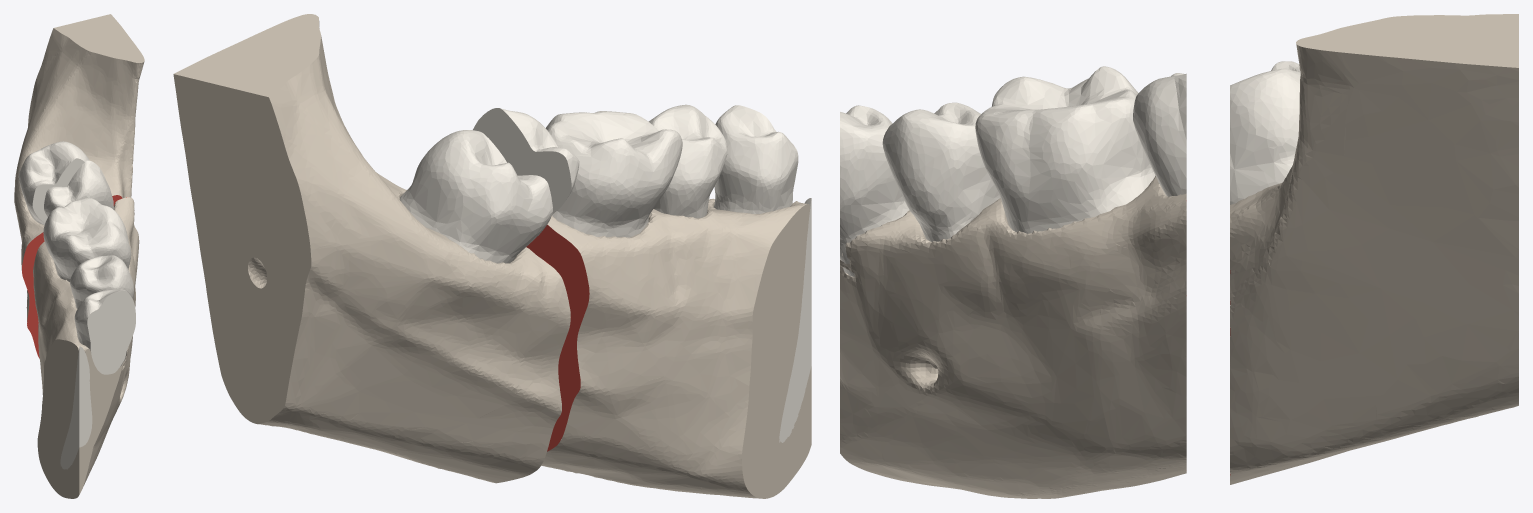
Rendered from 1-cut.glb.
The picture shows the model from 3 angles, left to right: view 1: azimuth 30°, elevation 25°; view 2: azimuth 150°, elevation 25°; view 3: azimuth 270°, elevation 25°; orthographic projection. The views are drawn at different scales.
Visible parts, largest first — view 1: bone, teeth, cut; view 2: bone, teeth, cut; view 3: bone, teeth.
Part boxes in pixels (box(x1,y1,x2,y2)): bone: box(14, 14, 144, 498); teeth: box(18, 141, 135, 469); cut: box(22, 195, 126, 358); bone: box(173, 14, 811, 498); teeth: box(400, 104, 811, 442); cut: box(526, 225, 589, 451); bone: box(840, 14, 1518, 498); teeth: box(840, 61, 1300, 276).
Bounding box in the file's own units: 0.032 × 0.0465 × 0.047.
